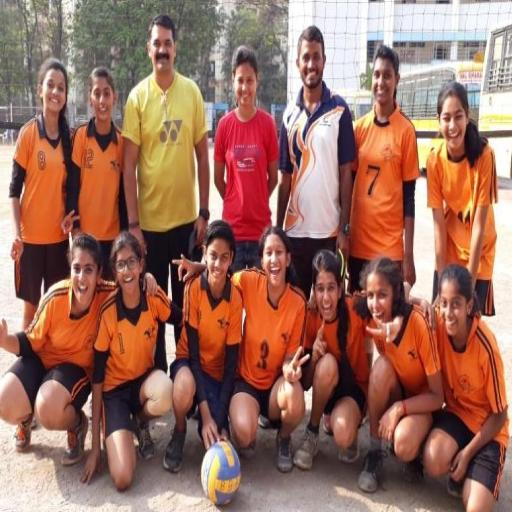person: (0, 233, 113, 464), (82, 231, 181, 490), (123, 15, 209, 292), (277, 26, 355, 297), (423, 264, 508, 510), (357, 257, 443, 492), (164, 220, 242, 473), (229, 226, 309, 471), (349, 46, 419, 292), (9, 59, 71, 329), (294, 250, 369, 469), (427, 82, 497, 316), (215, 47, 278, 271), (63, 67, 126, 280)
